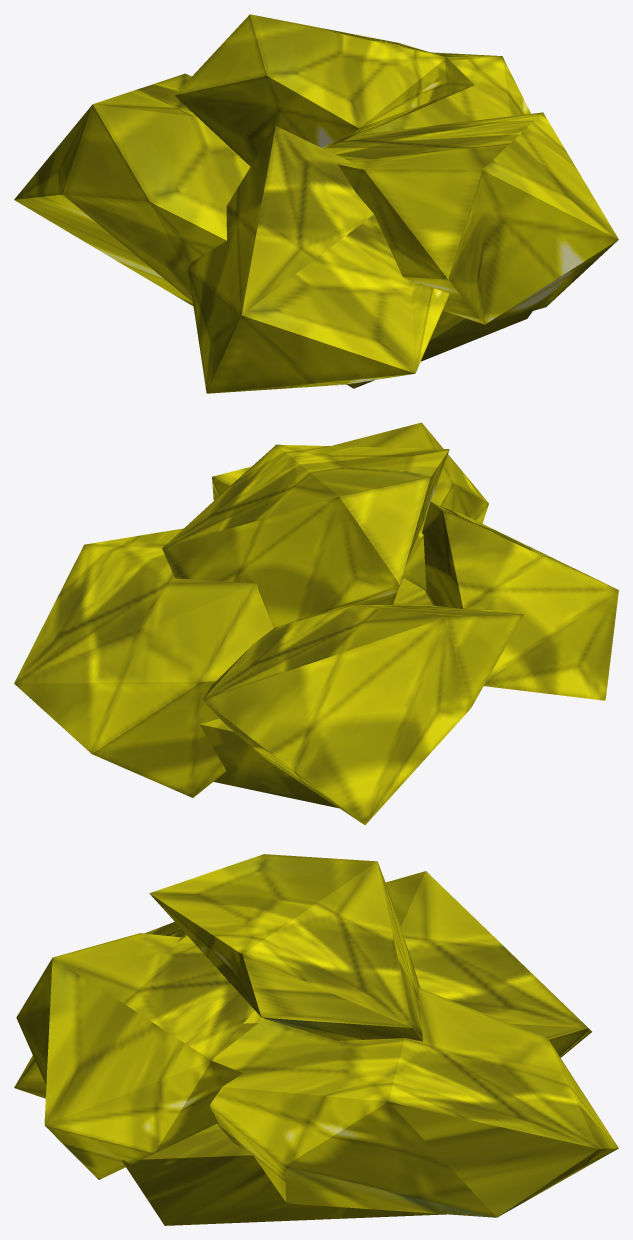
File: Crystal_G01_FBX.FBX
3 renders of one model, top to bottom at view 1: azimuth 30°, elevation 25°; view 2: azimuth 150°, elevation 25°; view 3: azimuth 270°, elevation 25°, orthographic. The views are drawn at different scales.
Visible parts, largest first — view 1: Crystal_G01; view 2: Crystal_G01; view 3: Crystal_G01.
Boxes of the visible parts, box(x1,y1,x2,y2) form: Crystal_G01: box(14, 14, 618, 393); Crystal_G01: box(14, 422, 618, 825); Crystal_G01: box(14, 854, 618, 1225).
Size of the model in its own units: 36.83 by 22.74 by 44.88.
